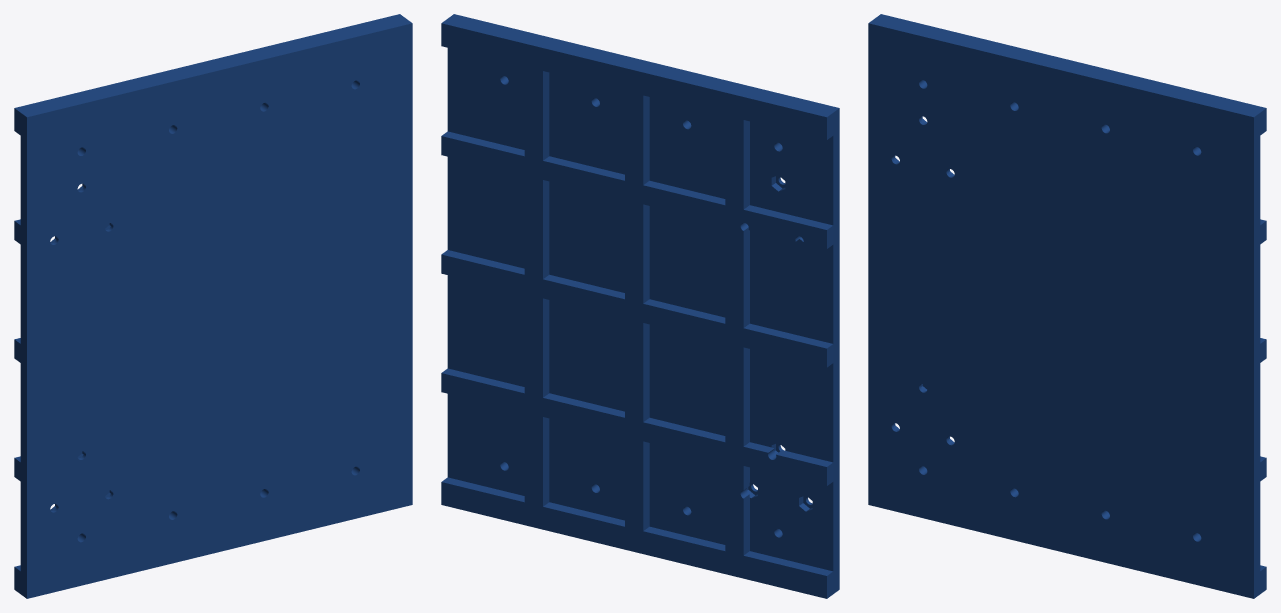
Rendered from .right_shelf.step.glb.
3 views of the same model, side by side, from view 1: azimuth 30°, elevation 25°; view 2: azimuth 150°, elevation 25°; view 3: azimuth 330°, elevation 25° (orthographic).
Visible parts, largest first — view 1: o1; view 2: o1; view 3: o1.
Part boxes in pixels (x1,y1,x2,y2): o1: (14,14,412,598); o1: (441,14,839,598); o1: (868,14,1266,598).
Size of the model in its own units: 0.2111 by 0.252 by 0.012.
